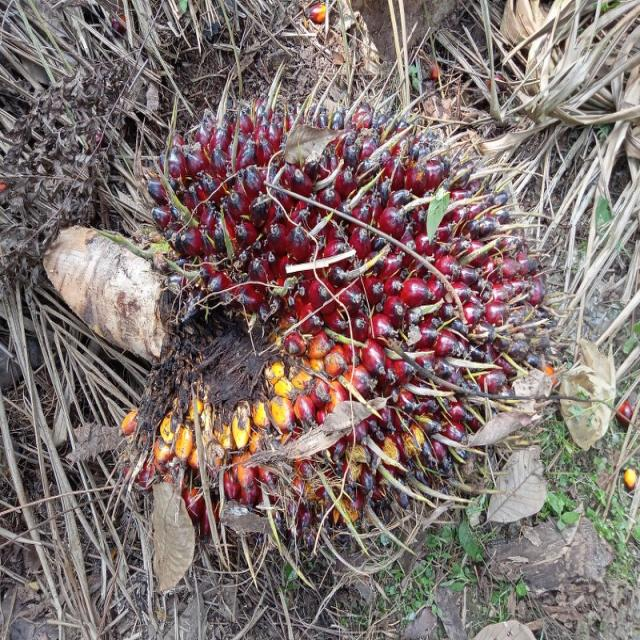fraksi 1: (90, 8, 557, 534)
